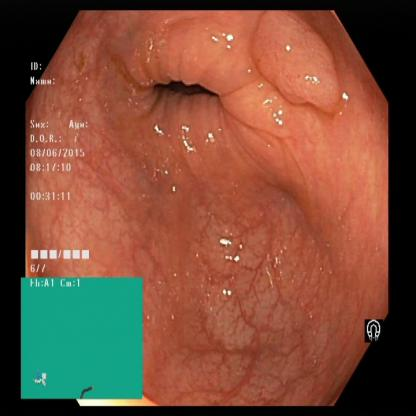Labels: (23, 60, 101, 275), (22, 278, 142, 399), (360, 304, 392, 348)
Polyps: (258, 12, 340, 112)
